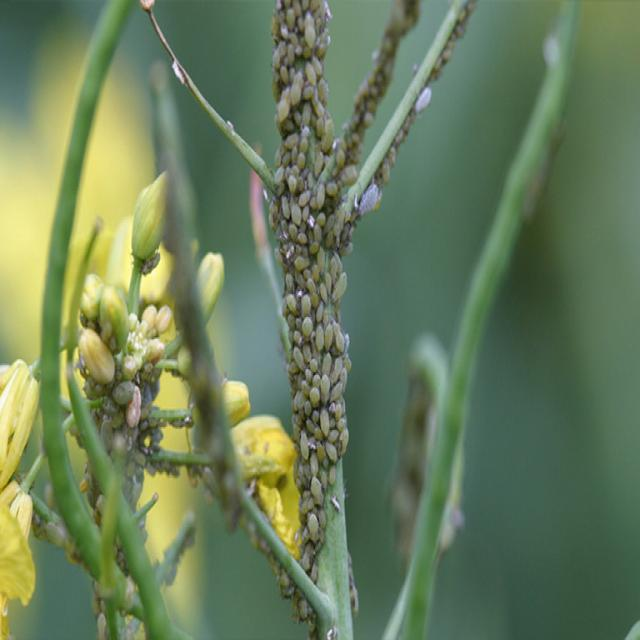Aphid-Grouped-: (262, 2, 368, 548)
